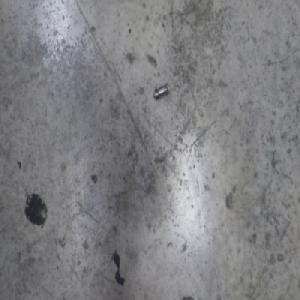Bolt: (155, 80, 170, 99)
